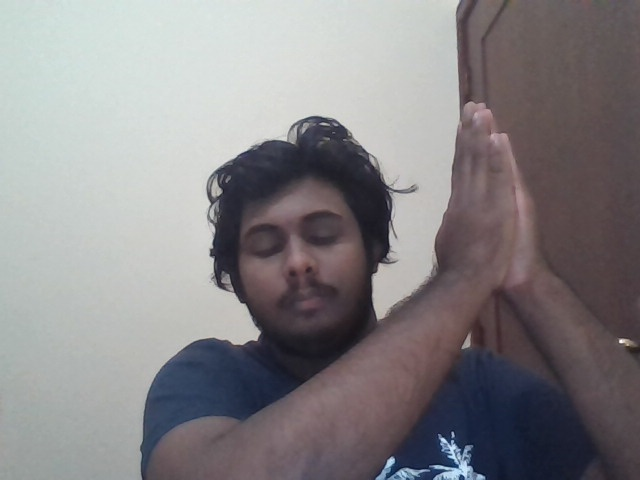namaste: (435, 102, 541, 292)
